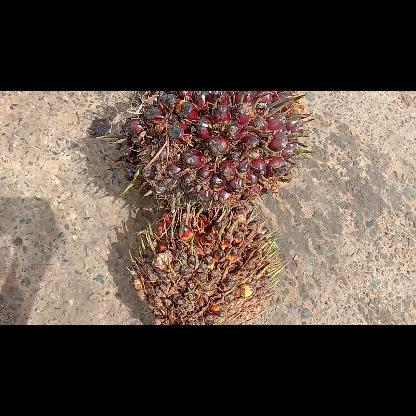Kurang masak: (95, 91, 313, 209)
TBS abnormal: (126, 198, 288, 324)
